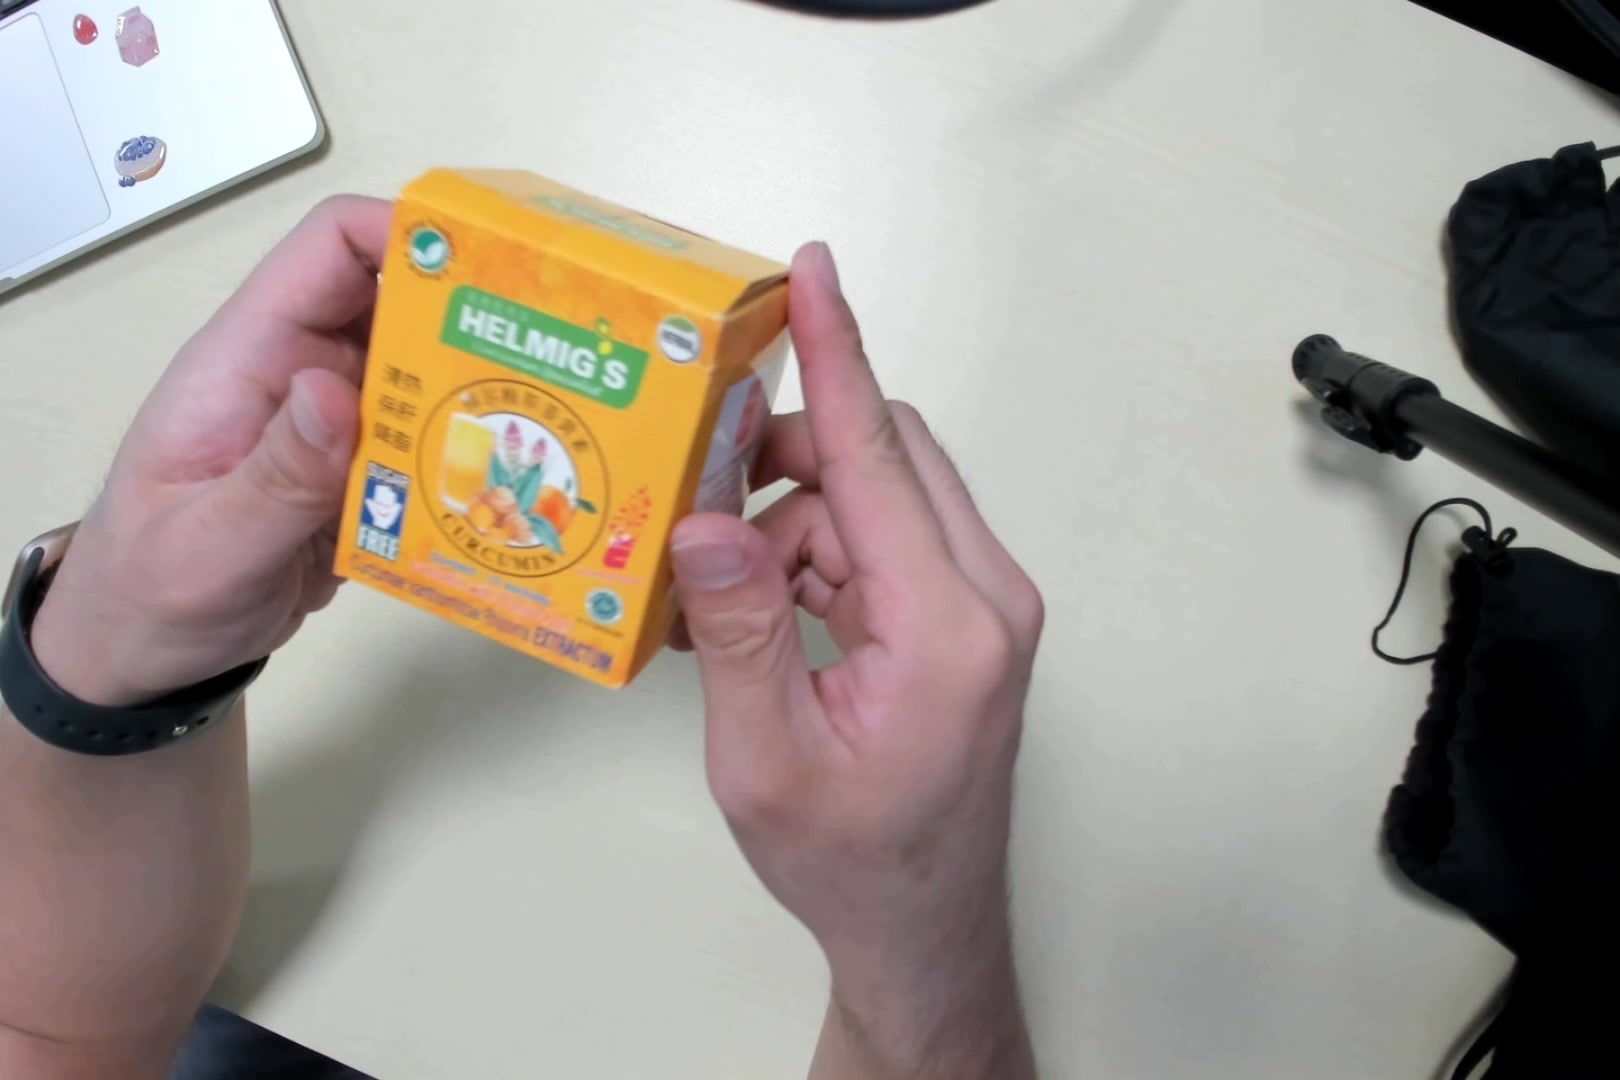OtherHotBeverages(Powder)_0-99g_Halal_NonHealthy: (333, 174, 792, 703)
